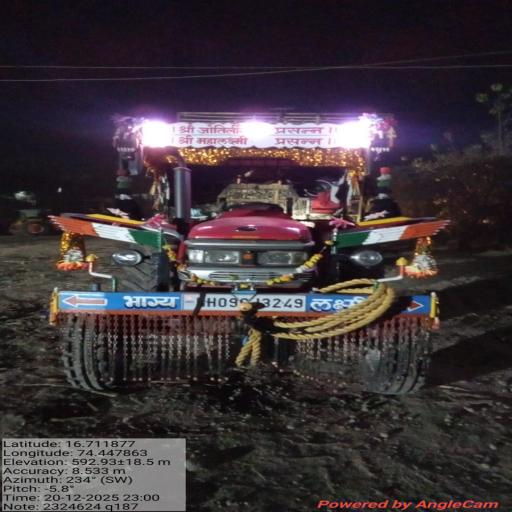number_plate: (180, 288, 328, 327)
